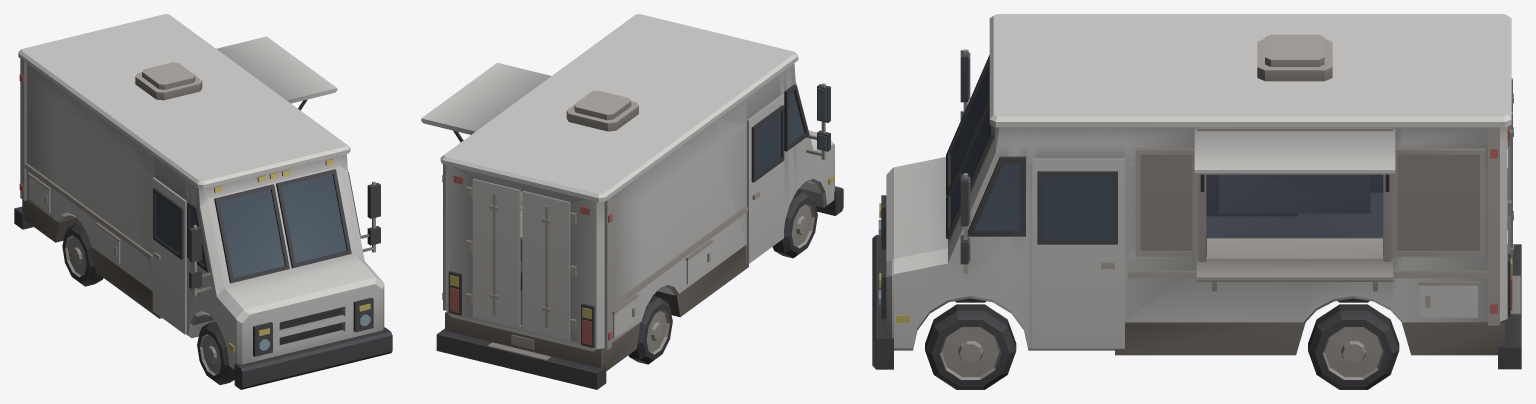
File: foodtruck.glb
The picture shows the model from 3 angles, left to right: view 1: azimuth 30°, elevation 25°; view 2: azimuth 150°, elevation 25°; view 3: azimuth 270°, elevation 25°; orthographic projection. The views are drawn at different scales.
Visible parts, largest first — view 1: foodtruck; view 2: foodtruck; view 3: foodtruck.
Boxes of the visible parts, x1,y1,x2,y2 form: foodtruck: (14, 14, 392, 389); foodtruck: (421, 14, 843, 389); foodtruck: (872, 14, 1521, 389).
Size of the model in its own units: 3.76 by 3.28 by 6.53.
